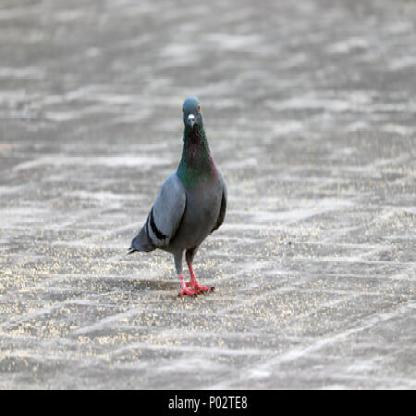Flying Rat: (129, 66, 243, 317)
